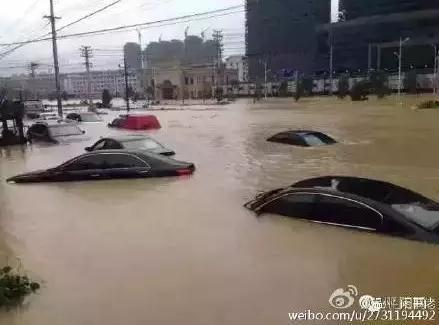water: (0, 122, 438, 324), (96, 92, 438, 202), (305, 109, 438, 202)
